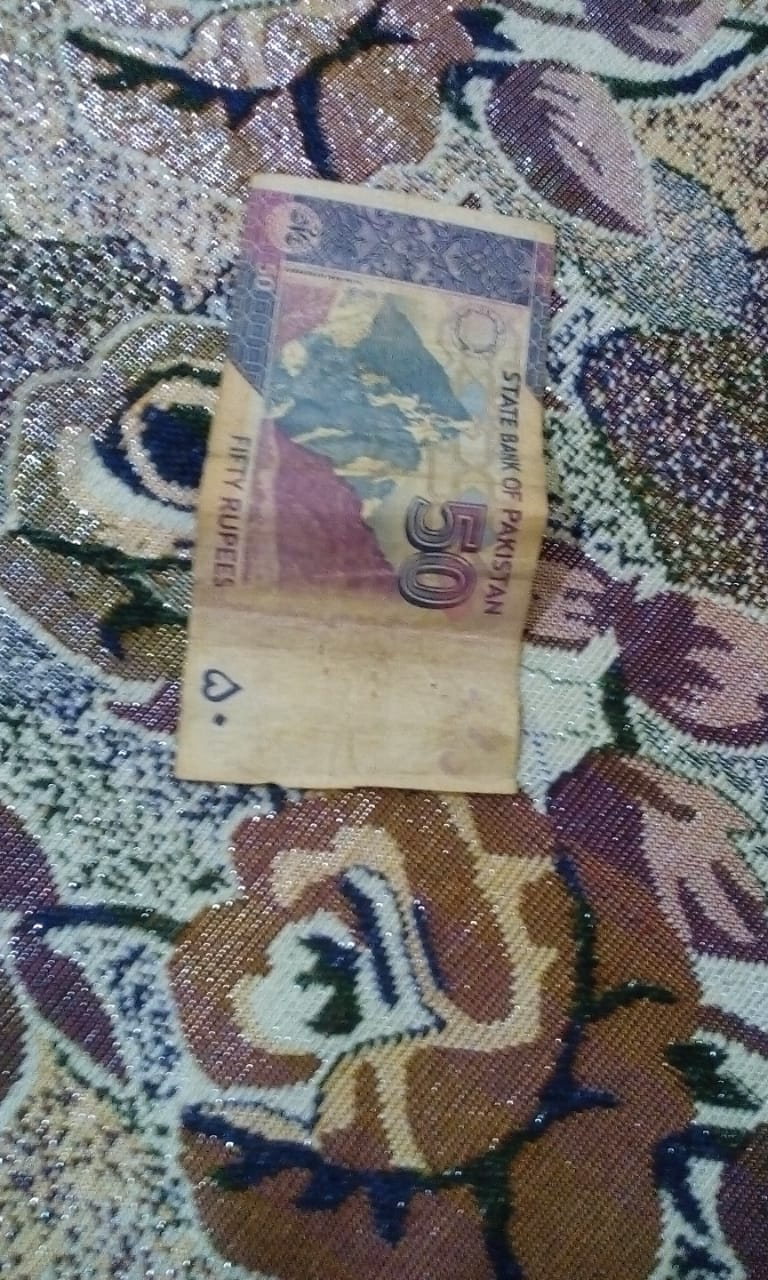50 rupee: (177, 161, 566, 787)
